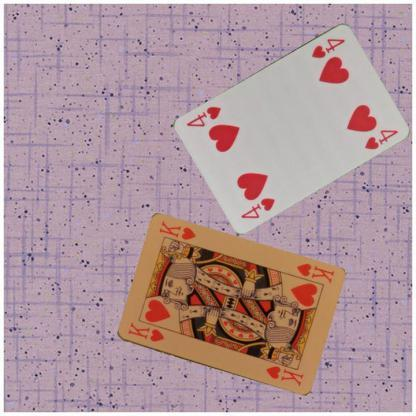4h: (238, 194, 276, 219), (309, 36, 346, 60)
Kh: (294, 260, 336, 285), (124, 320, 166, 344)
